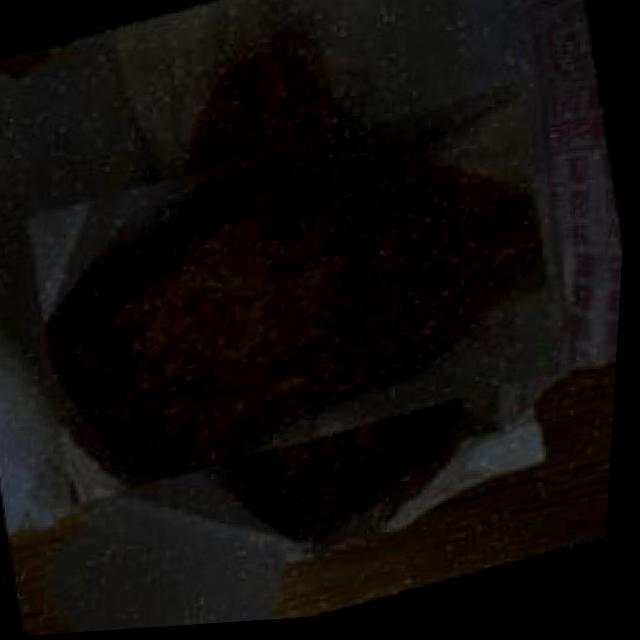fried_chicken: (49, 48, 549, 551)
